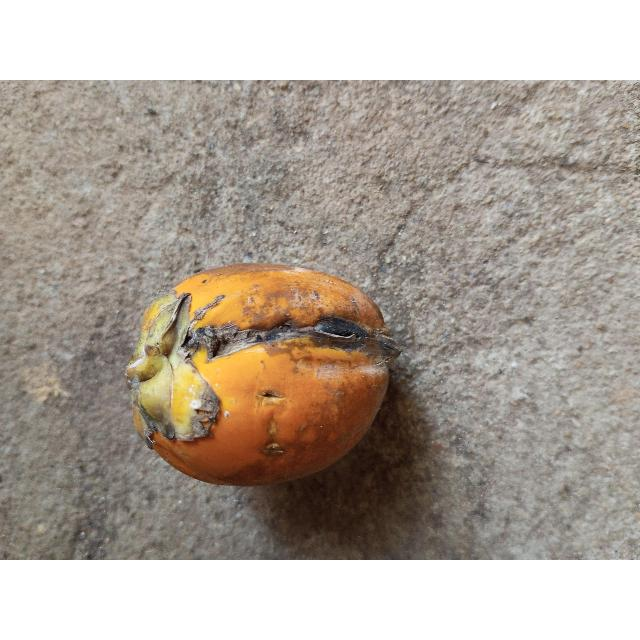damaged: (126, 264, 399, 489)
